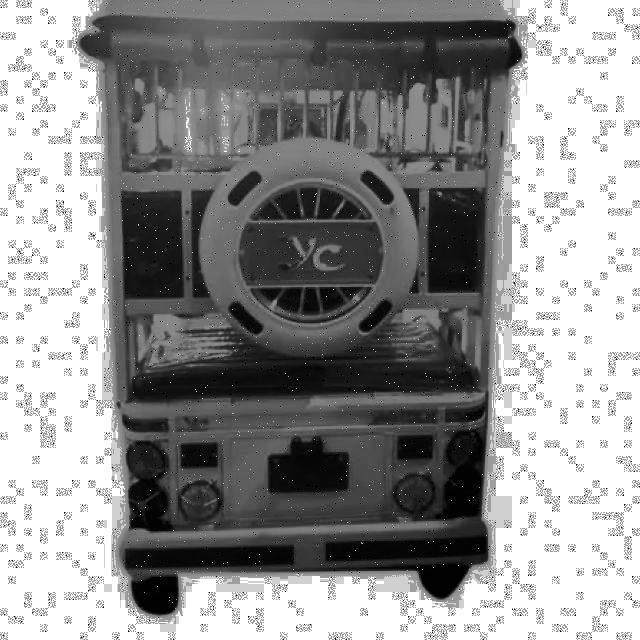Toto: (82, 0, 521, 633)
